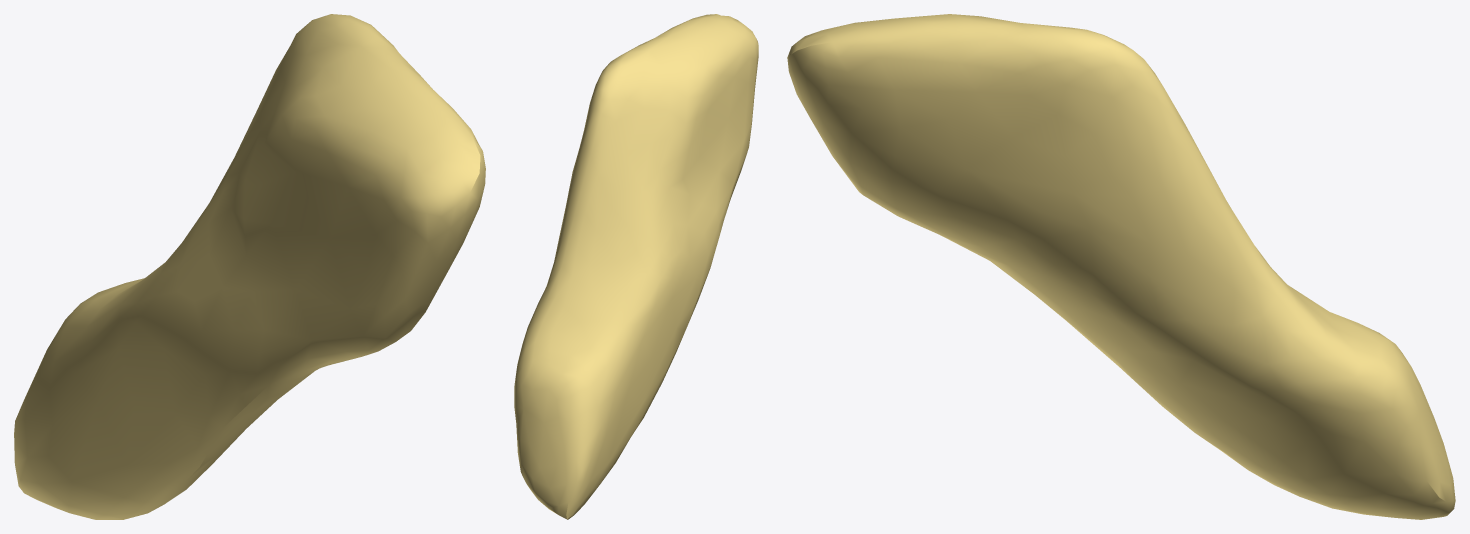
File: fma72707_mm3252m.glb
The picture shows the model from 3 angles, left to right: view 1: azimuth 30°, elevation 25°; view 2: azimuth 150°, elevation 25°; view 3: azimuth 270°, elevation 25°; orthographic projection. The views are drawn at different scales.
Parts seen in each view (by area): view 1: FMA72707_MM3252M; view 2: FMA72707_MM3252M; view 3: FMA72707_MM3252M.
Part boxes in pixels (x1=…): FMA72707_MM3252M: x1=14, y1=14, x2=485, y2=519; FMA72707_MM3252M: x1=514, y1=14, x2=758, y2=519; FMA72707_MM3252M: x1=787, y1=14, x2=1455, y2=519.
Size of the model in its own units: 0.00218 by 0.00739 by 0.00836.
